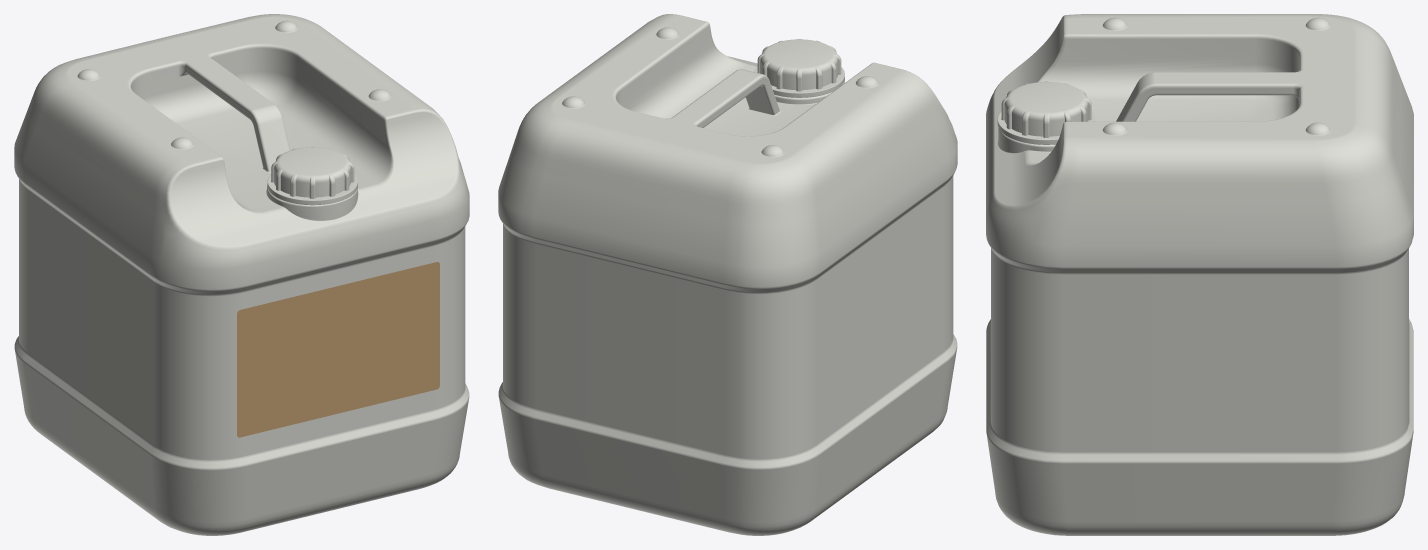
File: consumable_hydraulic_fluid_a01.glb
3 renders of one model, left to right at view 1: azimuth 30°, elevation 25°; view 2: azimuth 150°, elevation 25°; view 3: azimuth 270°, elevation 25°, orthographic. The views are drawn at different scales.
Size of the model in its own units: 0.3178 by 0.3555 by 0.35.
